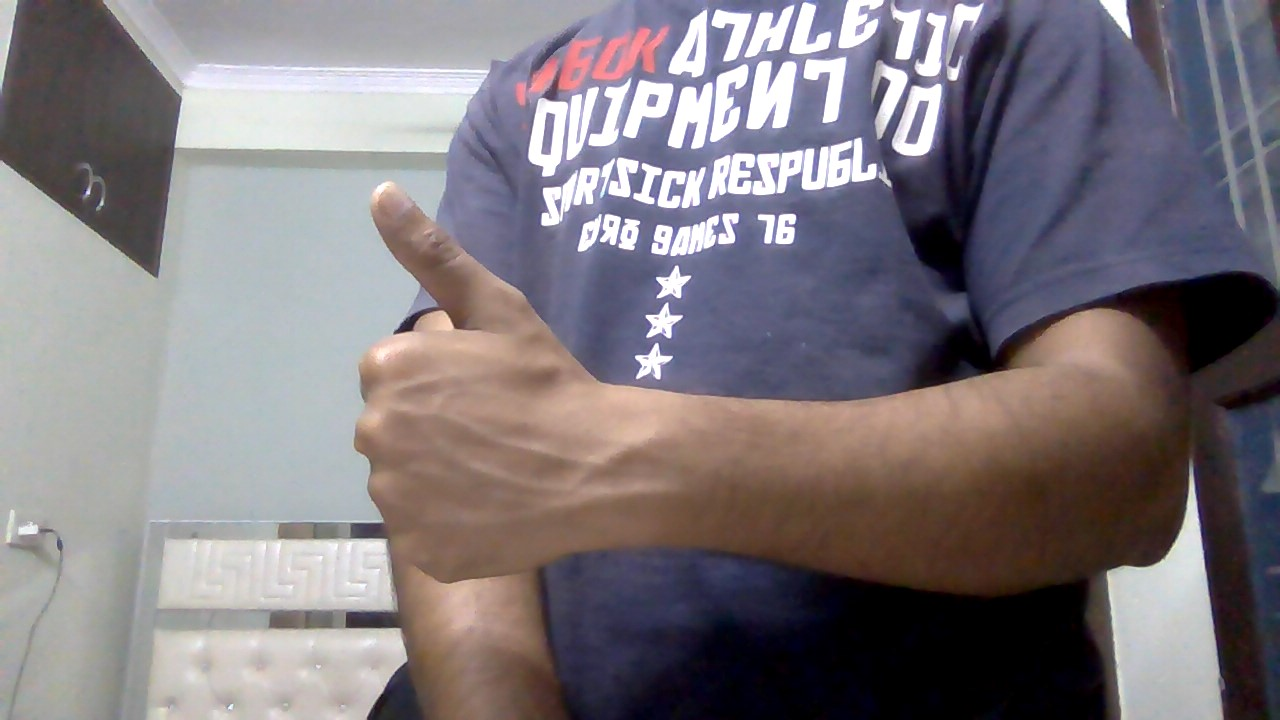Save: (344, 175, 615, 609)
